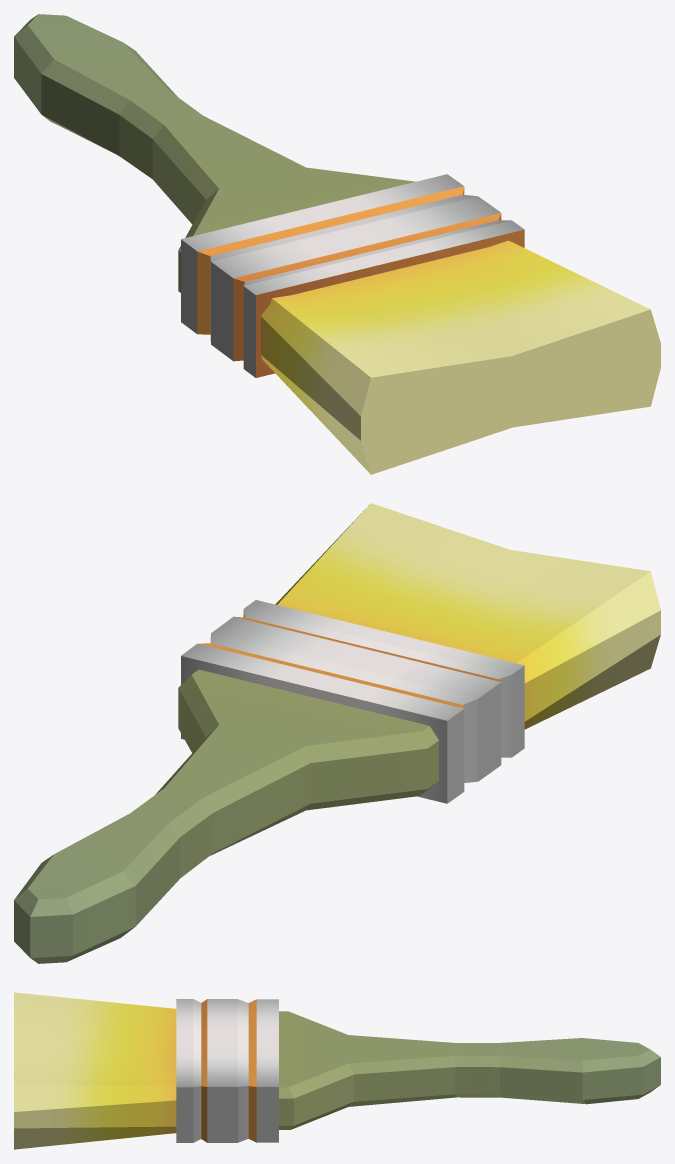
Rendered from fırça.fbx.
3 views of the same model, one above another, from view 1: azimuth 30°, elevation 25°; view 2: azimuth 150°, elevation 25°; view 3: azimuth 270°, elevation 25° (orthographic). The views are drawn at different scales.
Visible parts, largest first — view 1: fırça; view 2: fırça; view 3: fırça.
Boxes of the visible parts, x1=… form: fırça: x1=14, y1=14, x2=660, y2=474; fırça: x1=14, y1=503, x2=660, y2=963; fırça: x1=14, y1=992, x2=660, y2=1149.
Size of the model in its own units: 35.46 by 10.98 by 98.39.
1 material, 1 textured.
